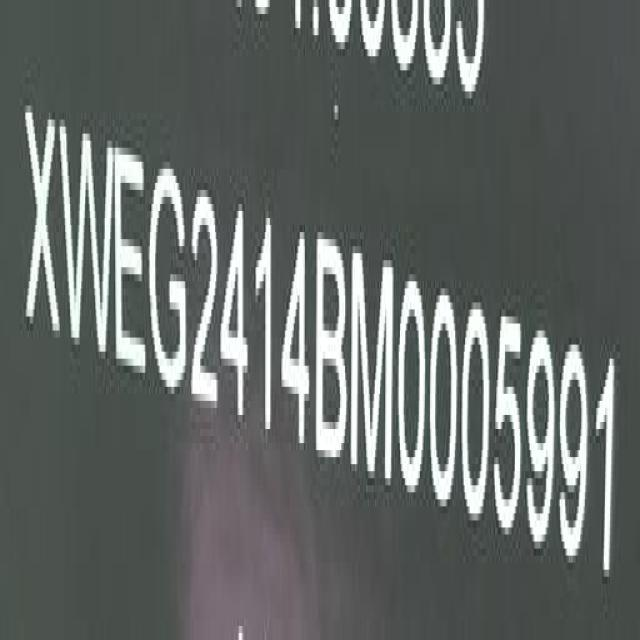0: (397, 272, 428, 503), (460, 296, 489, 528), (431, 285, 458, 520)
1: (598, 341, 620, 584), (255, 200, 276, 439)
2: (192, 180, 223, 416)
4: (283, 221, 314, 461), (220, 191, 250, 432)
5: (494, 302, 521, 539)
9: (558, 338, 588, 572), (526, 320, 555, 555)
B: (317, 230, 349, 472)
E: (115, 134, 148, 386)
G: (149, 156, 187, 399)
M: (352, 242, 394, 487)
W: (64, 121, 114, 372)
X: (23, 94, 61, 355)
